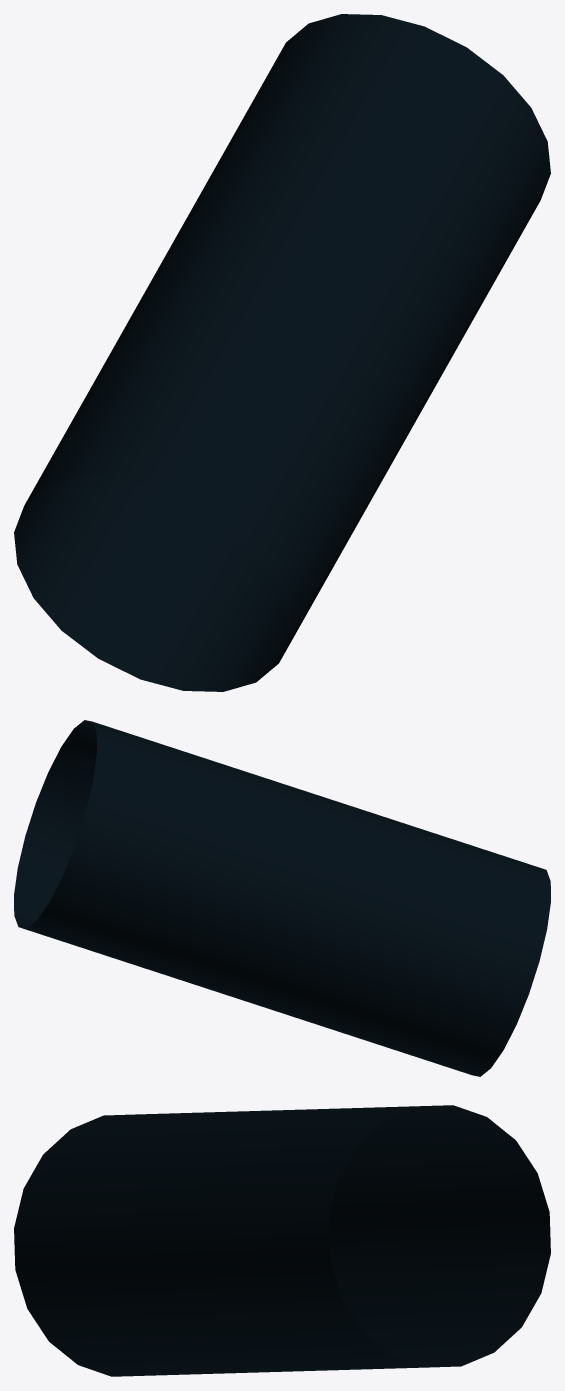
File: Block.fbx
3 views of the same model, one above another, from view 1: azimuth 30°, elevation 25°; view 2: azimuth 150°, elevation 25°; view 3: azimuth 270°, elevation 25° (orthographic). The views are drawn at different scales.
Visible parts, largest first — view 1: Block; view 2: Block; view 3: Block.
Boxes of the visible parts, left/top/right/bottom form: Block: left=14, top=14, right=550, bottom=691; Block: left=14, top=720, right=550, bottom=1076; Block: left=14, top=1105, right=550, bottom=1376.
Bounding box in the file's own units: 4.68 × 3.51 × 4.06.
